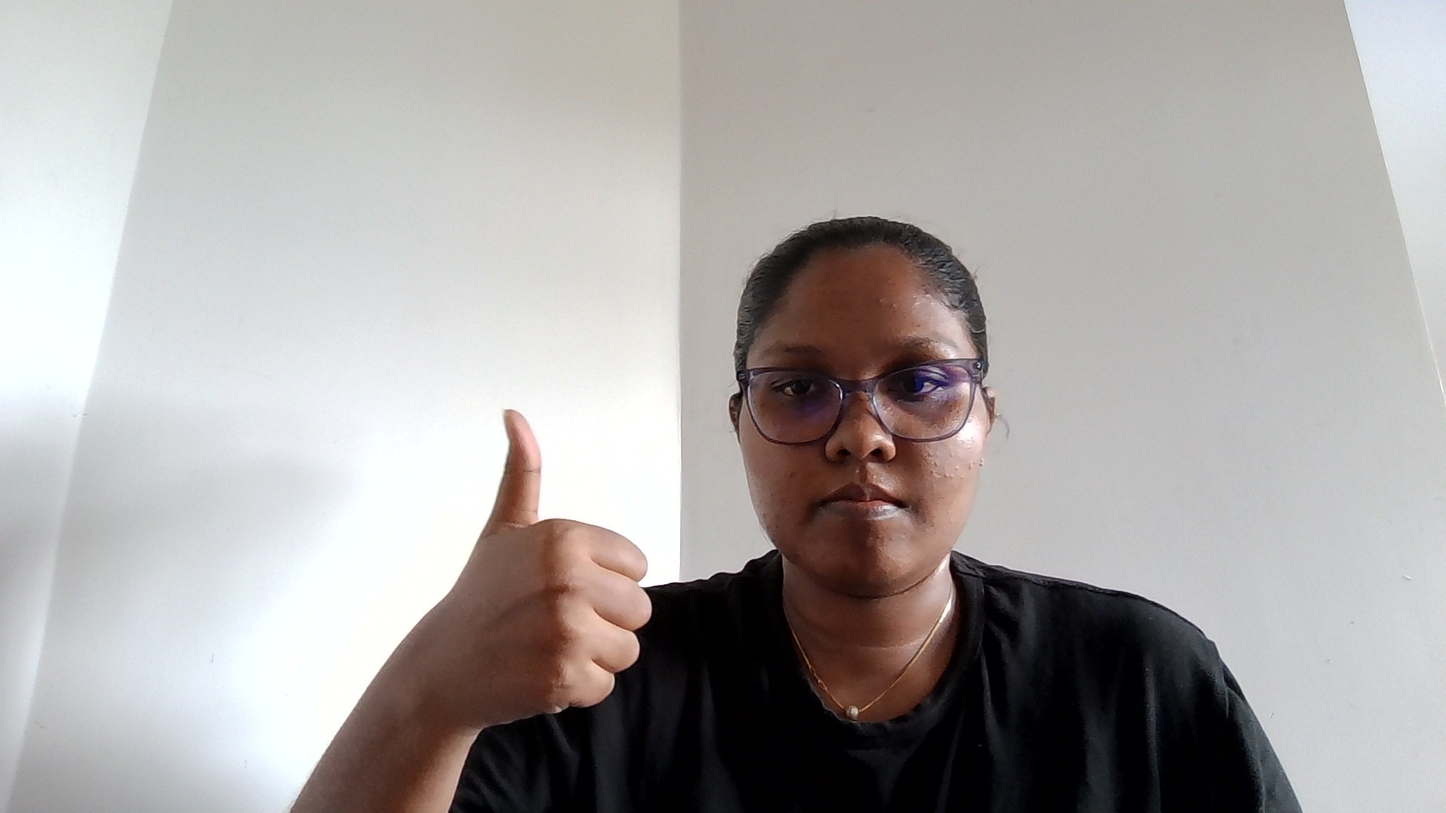Thumbs Up: (333, 299, 706, 764)
